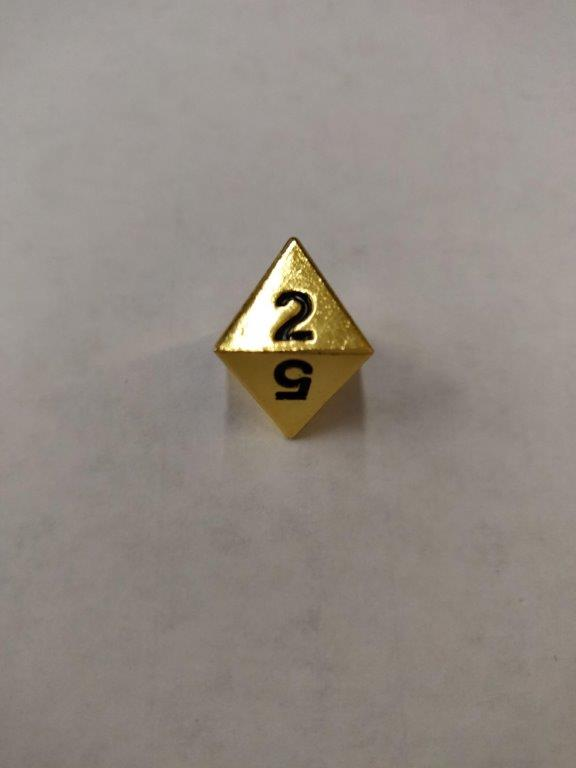d8-2: (216, 237, 368, 439)
